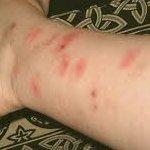Ants: (51, 25, 80, 52), (23, 23, 44, 46), (71, 57, 88, 79), (56, 55, 71, 75)
